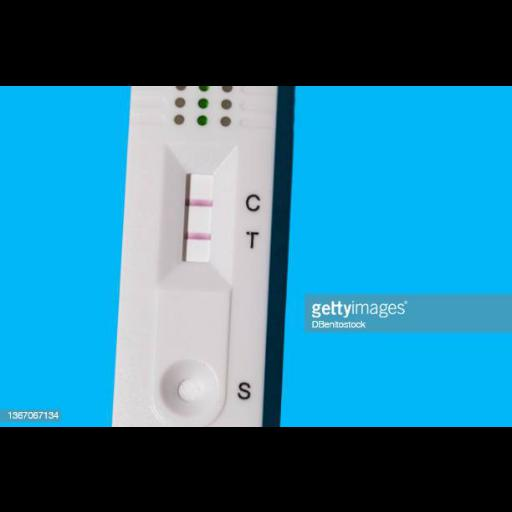Pos: (114, 86, 278, 424)
